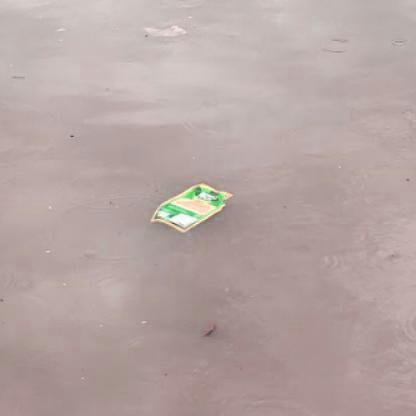Trash: (148, 183, 233, 234)
